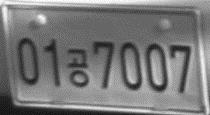0: (143, 41, 170, 92), (16, 36, 40, 85), (119, 41, 143, 90)
1: (40, 37, 64, 87)
7: (167, 42, 192, 95), (90, 39, 116, 89)
공: (65, 47, 90, 87)
